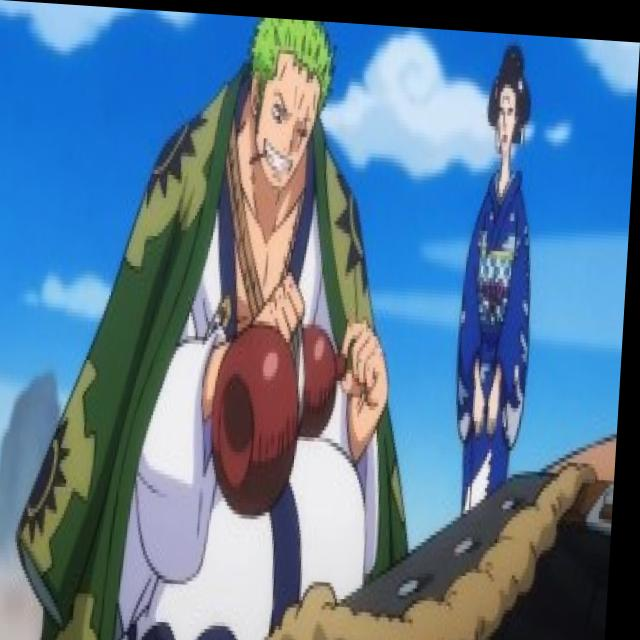Zoro: (231, 13, 348, 207)
